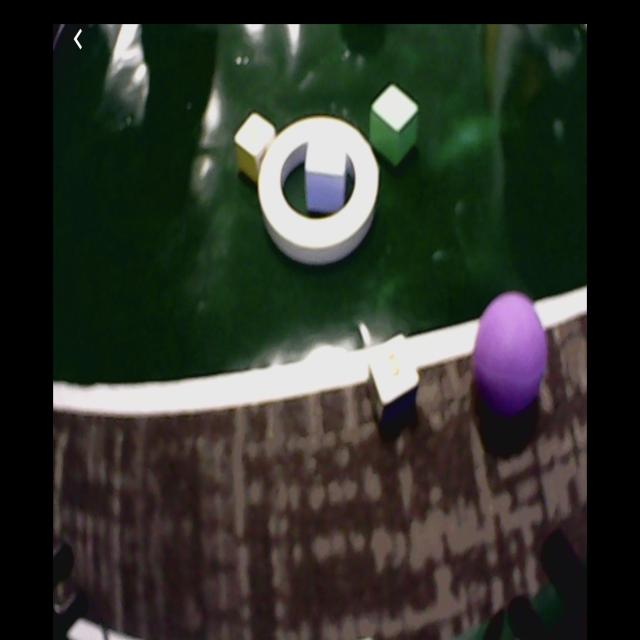ball: (474, 292, 548, 411)
